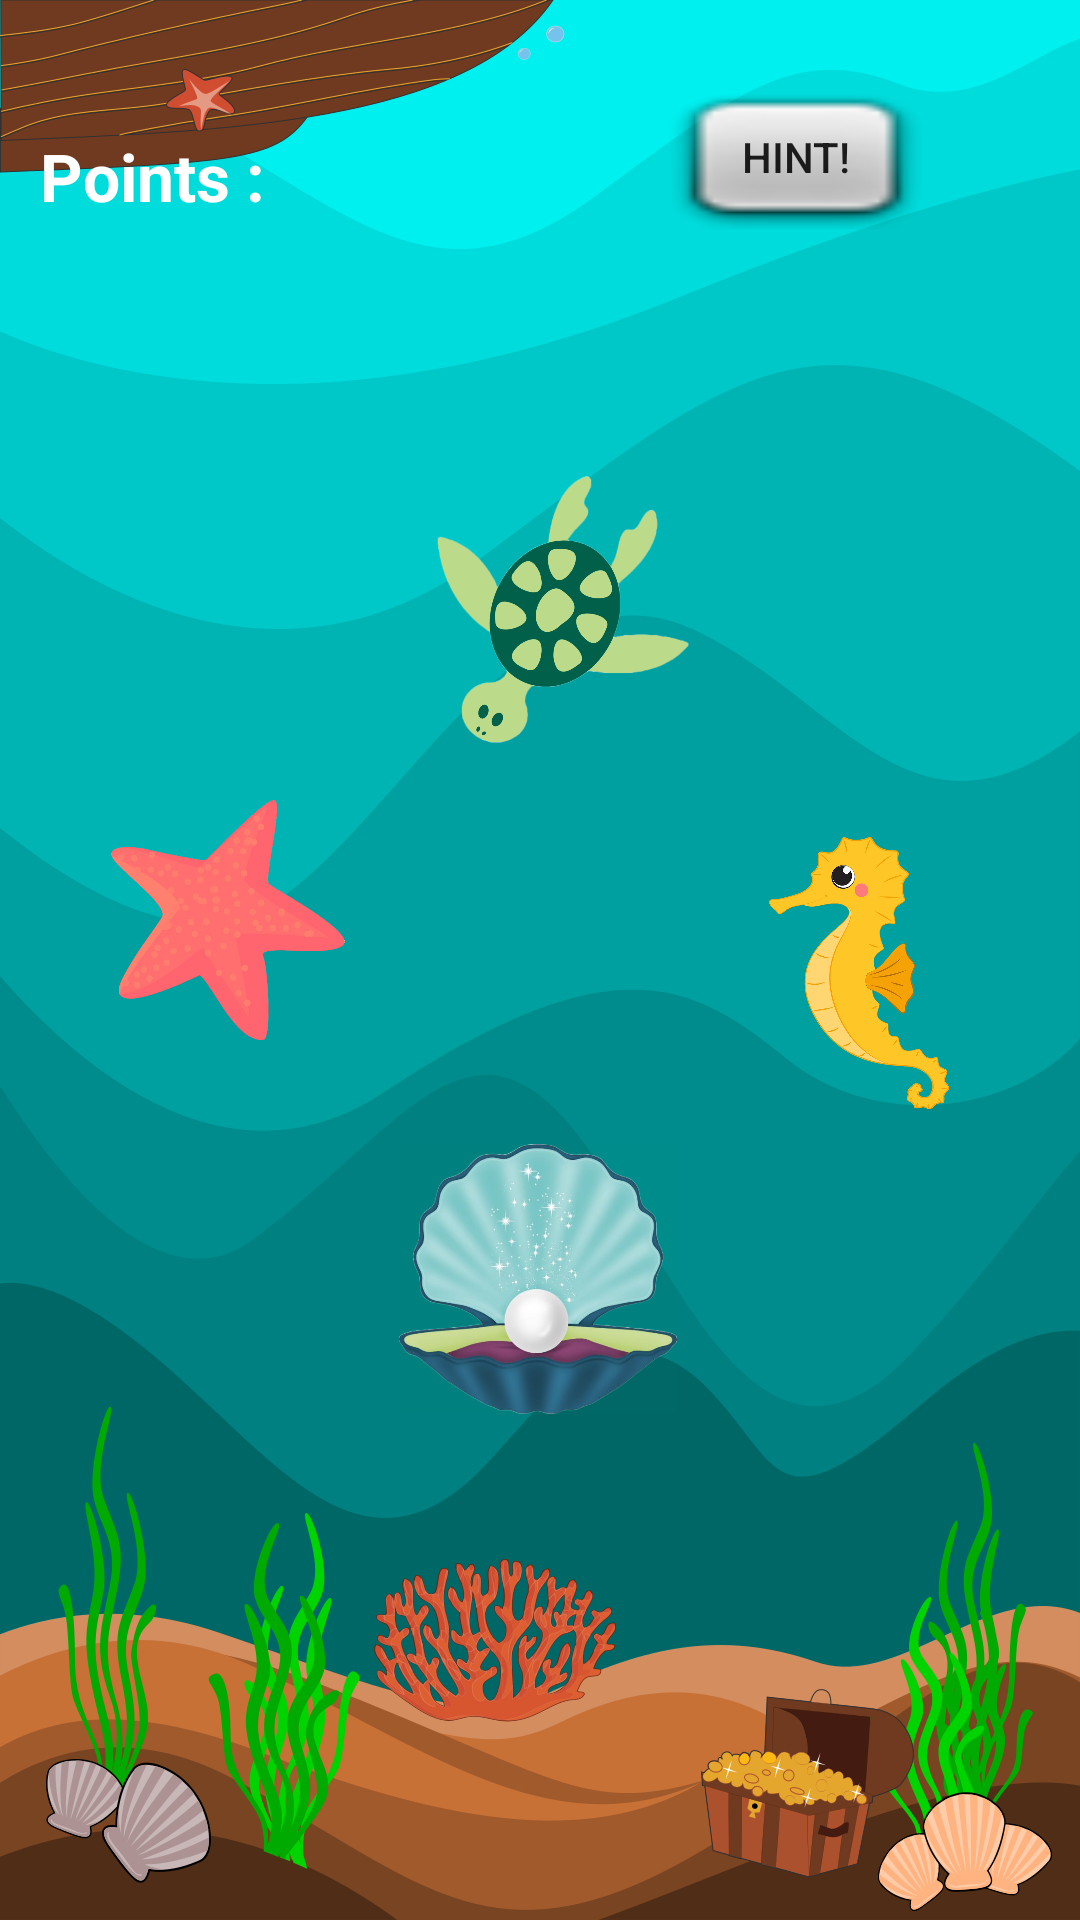

Icon click points for this 1080px x 1920px phone screenshot, format [x,y]:
Oyster: [543,1279]
Sea Horse: [859,973]
Star Fish: [228,920]
Turtle: [558,603]
